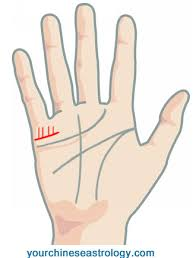palm: (37, 104, 152, 221)
